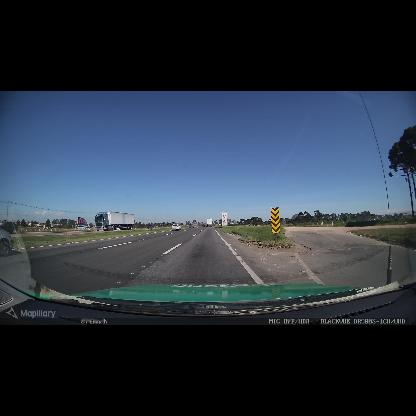I-SA: (222, 211, 227, 214)
O-MP: (271, 207, 280, 233)
R-19: (222, 214, 228, 226)
